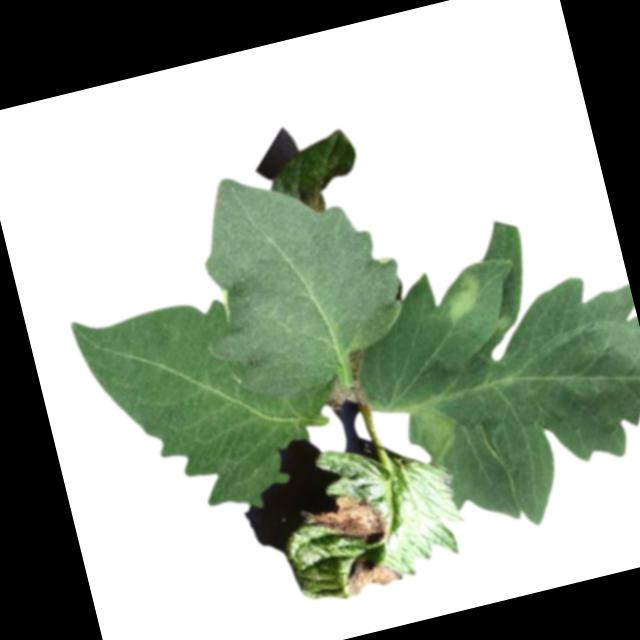Late_blight: (298, 482, 391, 558), (403, 390, 463, 468), (315, 347, 369, 412), (434, 266, 488, 328), (338, 549, 404, 599), (292, 176, 339, 216)
healthy: (69, 267, 346, 541), (170, 142, 421, 411)
